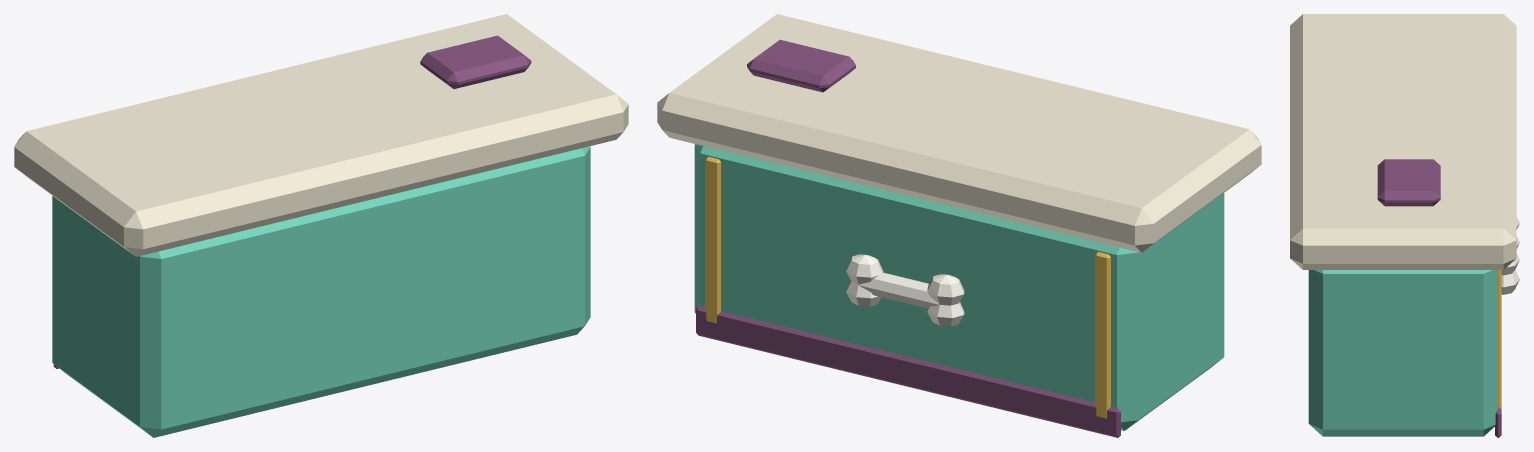
The model's file is shop_counter.glb.
The picture shows the model from 3 angles, left to right: view 1: azimuth 30°, elevation 25°; view 2: azimuth 150°, elevation 25°; view 3: azimuth 270°, elevation 25°; orthographic projection. The views are drawn at different scales.
Visible parts, largest first — view 1: shop_counter; view 2: shop_counter; view 3: shop_counter.
Boxes of the visible parts, left/top/right/bottom form: shop_counter: left=14, top=14, right=628, bottom=437; shop_counter: left=657, top=14, right=1261, bottom=437; shop_counter: left=1290, top=14, right=1519, bottom=437.
Size of the model in its own units: 1.95 by 0.96 by 0.8398.
